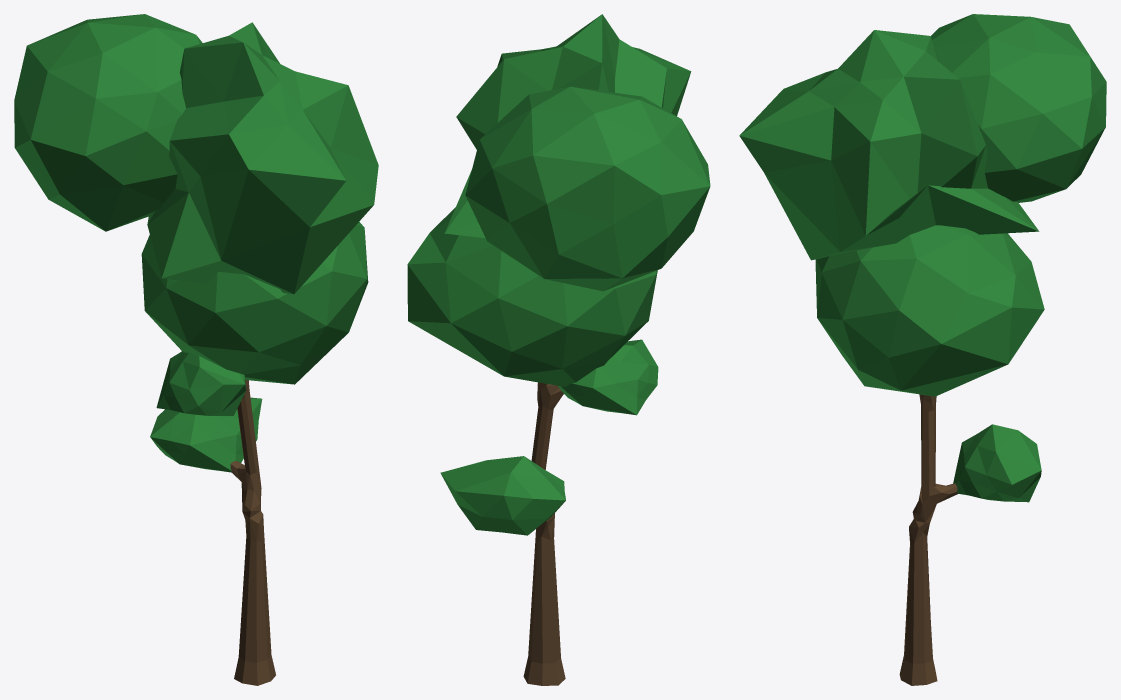
The model's file is arbol3.fbx.
3 views of the same model, side by side, from view 1: azimuth 30°, elevation 25°; view 2: azimuth 150°, elevation 25°; view 3: azimuth 270°, elevation 25° (orthographic). The views are drawn at different scales.
Visible parts, largest first — view 1: arbol.005; view 2: arbol.005; view 3: arbol.005.
Boxes of the visible parts, left/top/right/bottom form: arbol.005: left=14, top=14, right=378, bottom=685; arbol.005: left=407, top=14, right=710, bottom=685; arbol.005: left=739, top=14, right=1106, bottom=685.
Size of the model in its own units: 1826 by 3692 by 1946.
